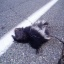skunk: (12, 21, 51, 48)
